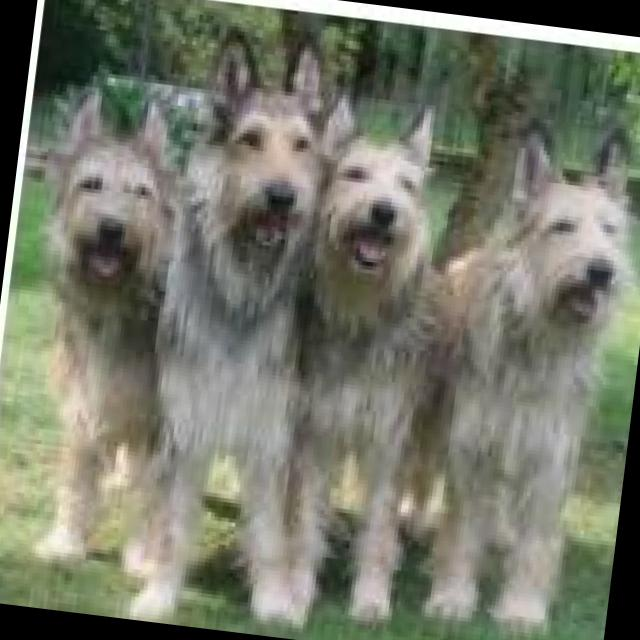Perro: (104, 11, 382, 637), (328, 89, 640, 640), (250, 71, 502, 637), (0, 66, 248, 587)
